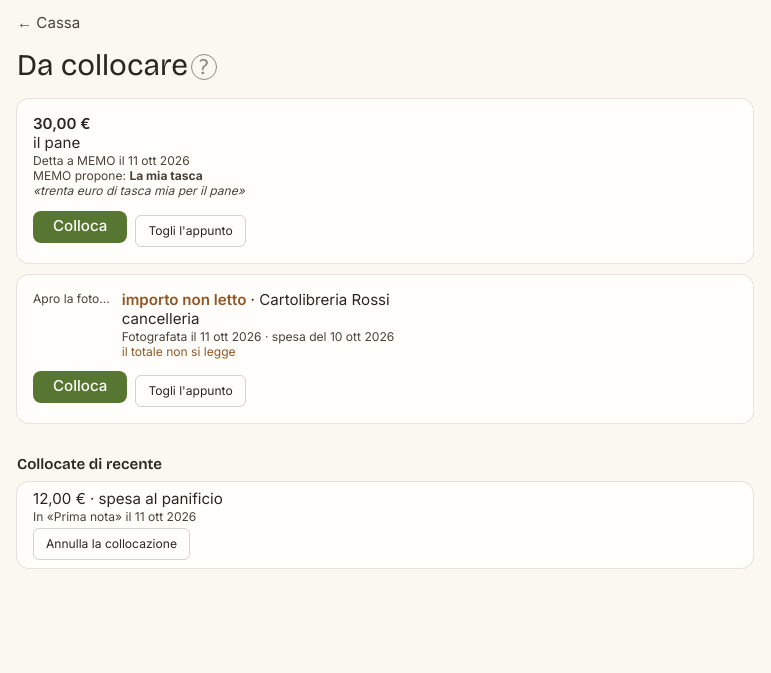
Test: Da collocare › «No, lascia stare» non annulla niente
Click the button "Annulla la collocazione" at [111, 544], box [33,528,190,560]
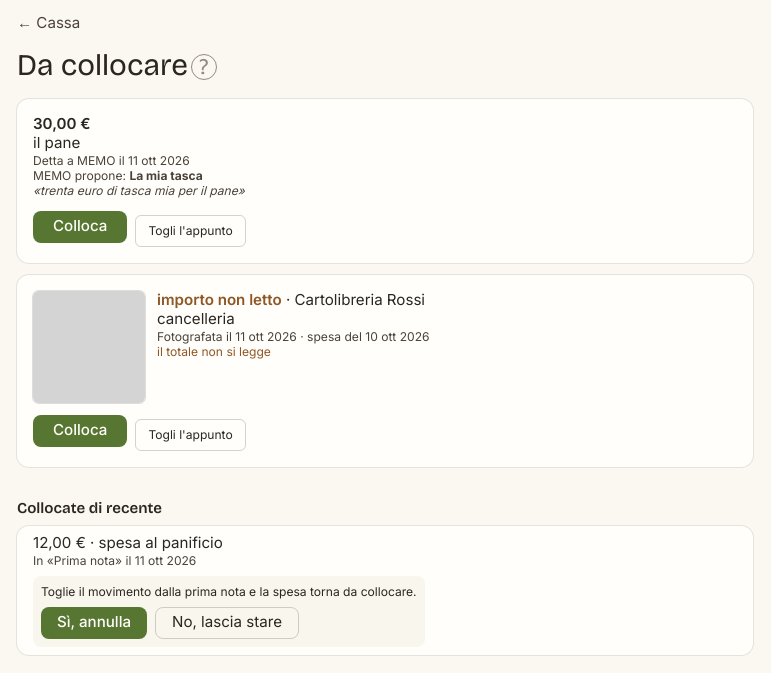
Click the button "No, lascia stare" at [227, 623], box [155,607,299,639]
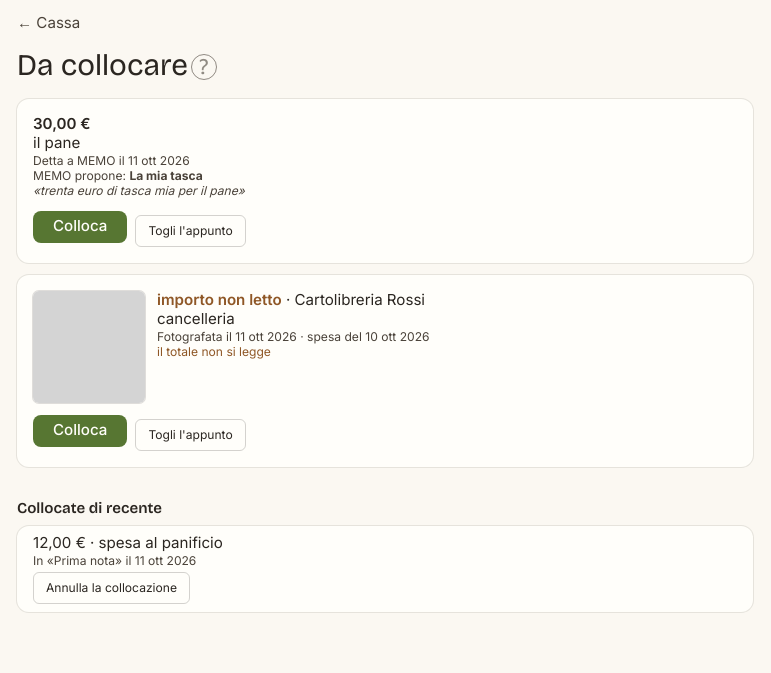
Check: the button "Annulla la collocazione" is shown, box [33,572,190,604]
